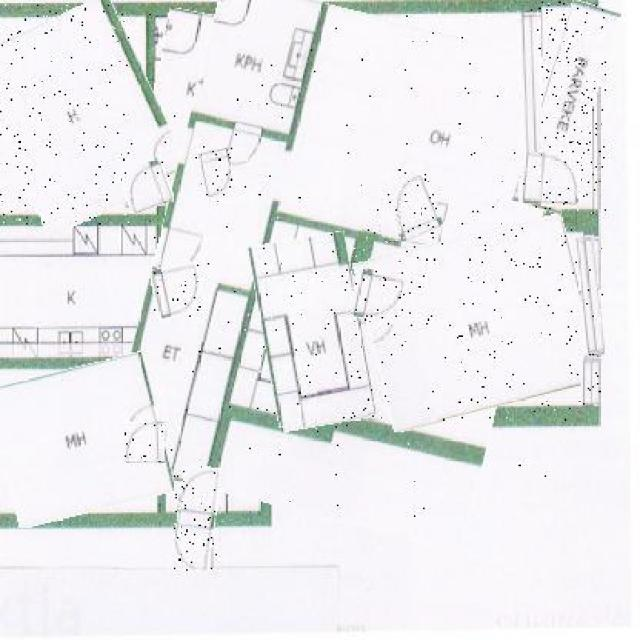door: (174, 465, 218, 572), (382, 166, 440, 242), (518, 152, 580, 208), (352, 270, 414, 324), (152, 265, 203, 317), (120, 160, 171, 211), (200, 149, 235, 205), (124, 422, 164, 463)
window: (518, 11, 542, 152), (579, 238, 603, 356), (580, 357, 602, 405)
zone: (131, 0, 552, 531), (361, 224, 594, 422), (0, 4, 172, 224), (0, 358, 166, 518), (255, 236, 368, 430), (528, 1, 606, 214), (150, 12, 262, 154)
